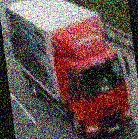truck: (2, 0, 138, 139)
